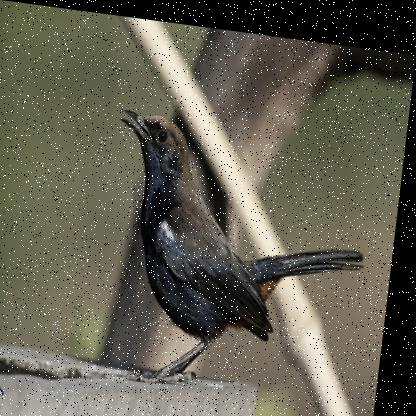Burung: (99, 104, 380, 399)
